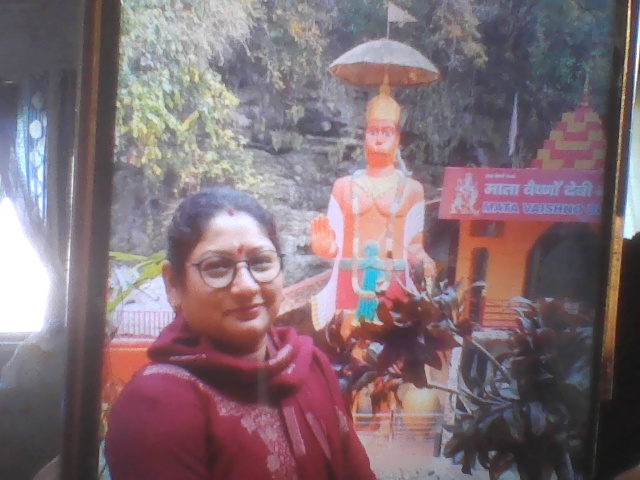fake: (169, 182, 293, 358)
